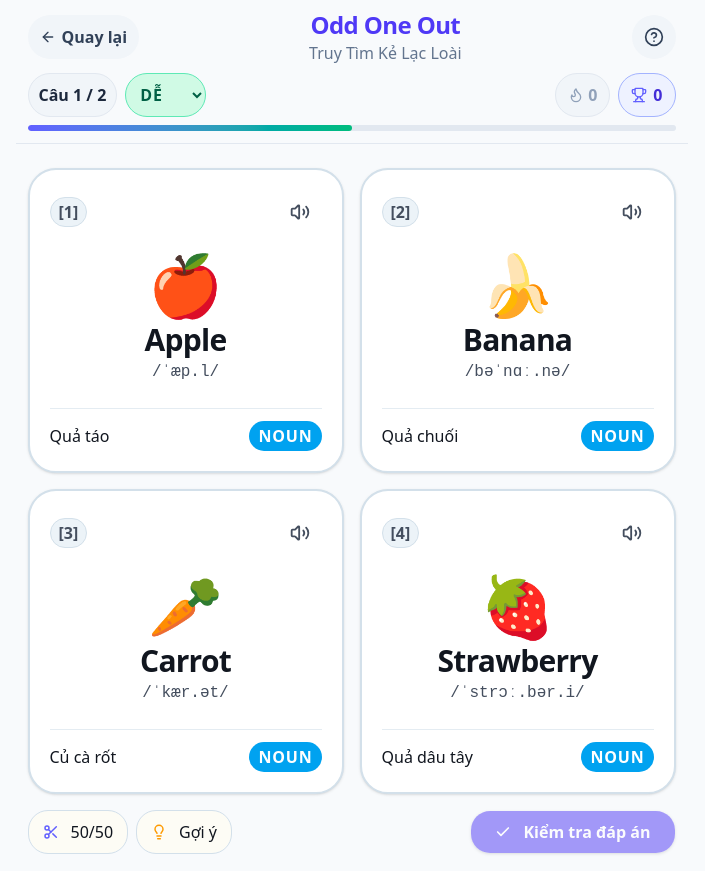
Test: OddOneOutPage Integration Suite › applies 50/50 hint, eliminates 2 non-odd cards, and plays 50/50 sound
Click the button with test id "fifty-fifty-btn" at [78, 832], box x1=28 y1=810 x2=128 y2=854
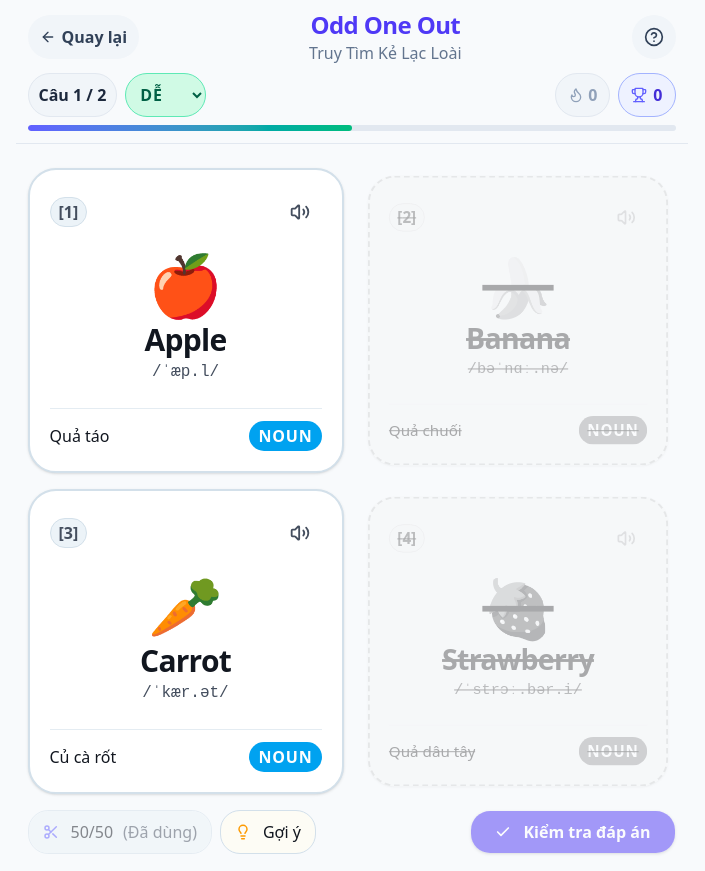
Check: the button with test id "fifty-fifty-btn" is disabled, box x1=28 y1=810 x2=212 y2=854
